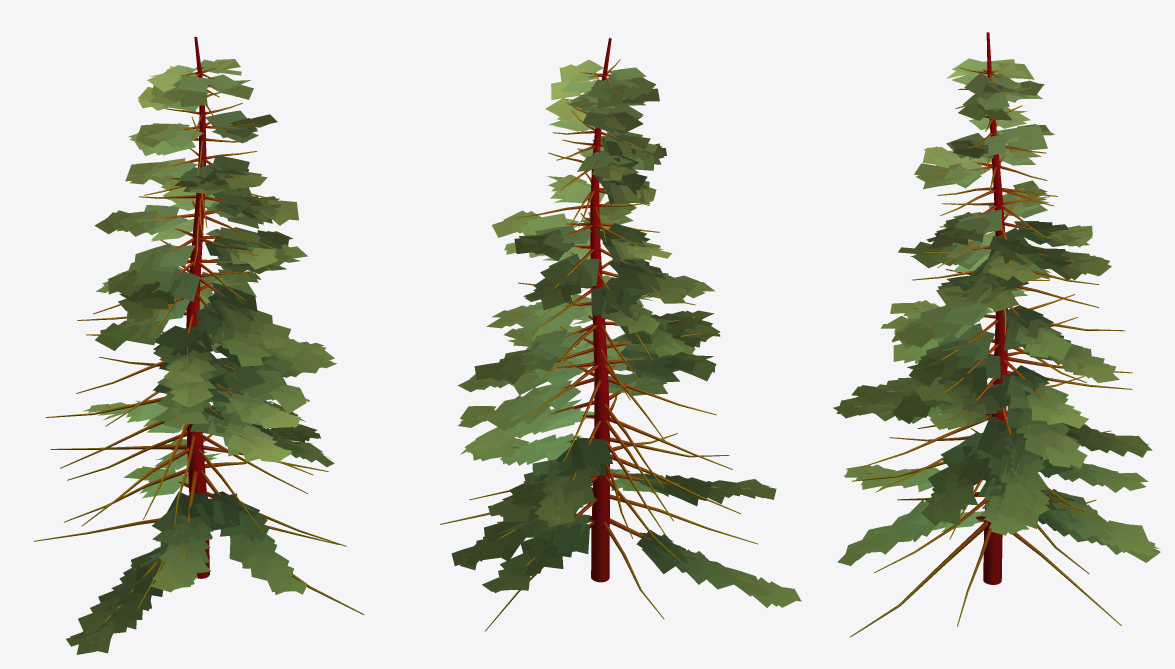
The model's file is young_spruce_a.glb.
3 renders of one model, left to right at view 1: azimuth 30°, elevation 25°; view 2: azimuth 150°, elevation 25°; view 3: azimuth 270°, elevation 25°, orthographic.
Parts seen in each view (by area): view 1: LOD0; view 2: LOD0; view 3: LOD0.
Boxes of the visible parts, x1,y1,x2,y2 form: LOD0: (33, 37, 364, 654); LOD0: (440, 38, 801, 631); LOD0: (833, 32, 1160, 637).
Size of what is drawn, in the model's own units: 3.88 by 7.18 by 3.63.
